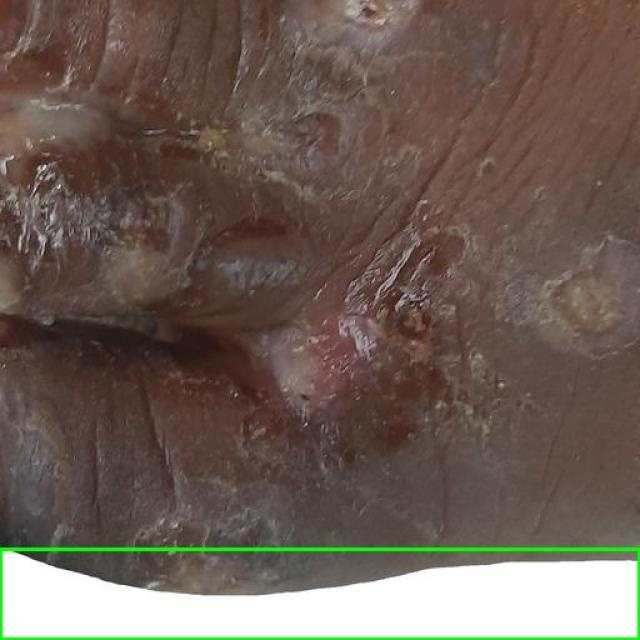Eczema: (0, 549, 639, 639)
